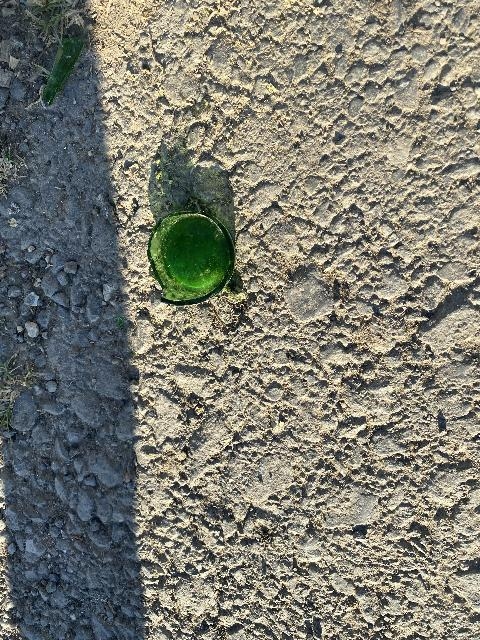Cam: (148, 200, 243, 311)
